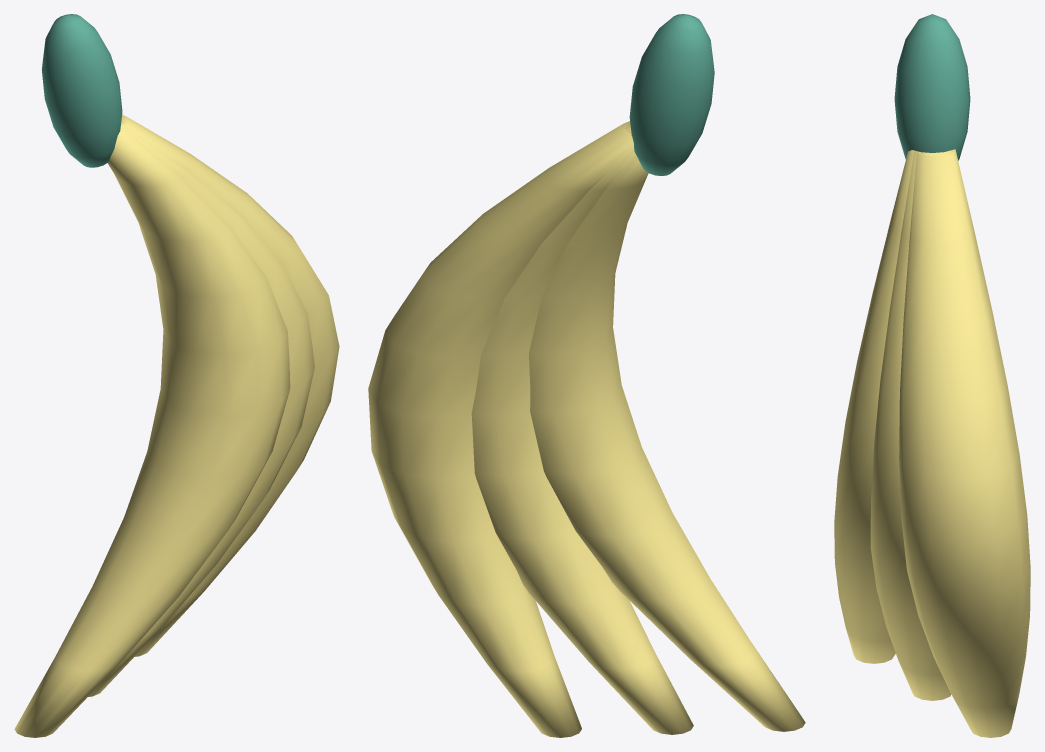
The model's file is banana.glb.
The picture shows the model from 3 angles, left to right: view 1: azimuth 30°, elevation 25°; view 2: azimuth 150°, elevation 25°; view 3: azimuth 270°, elevation 25°; orthographic projection. The views are drawn at different scales.
Parts seen in each view (by area): view 1: banana; view 2: banana; view 3: banana.
Boxes of the visible parts, left/top/right/bottom form: banana: left=14, top=14, right=339, bottom=737; banana: left=368, top=14, right=805, bottom=737; banana: left=834, top=14, right=1030, bottom=737.
Bounding box in the file's own units: 0.7026 × 1.27 × 0.3363.
